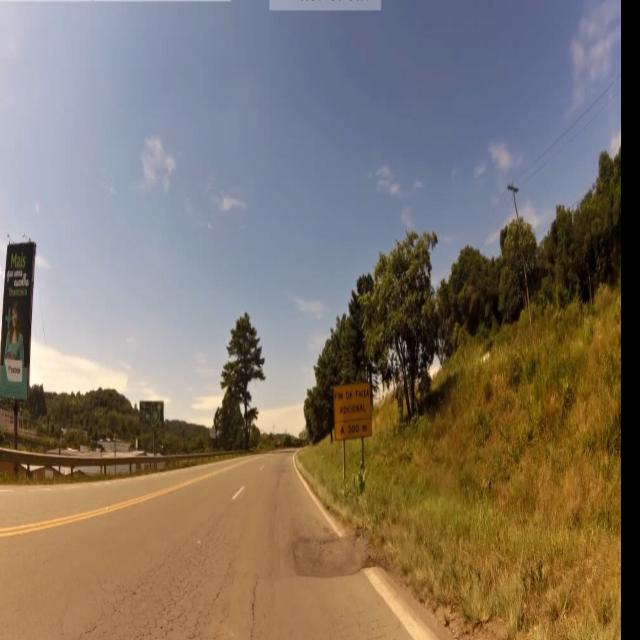ESP-20: (331, 384, 375, 441)
